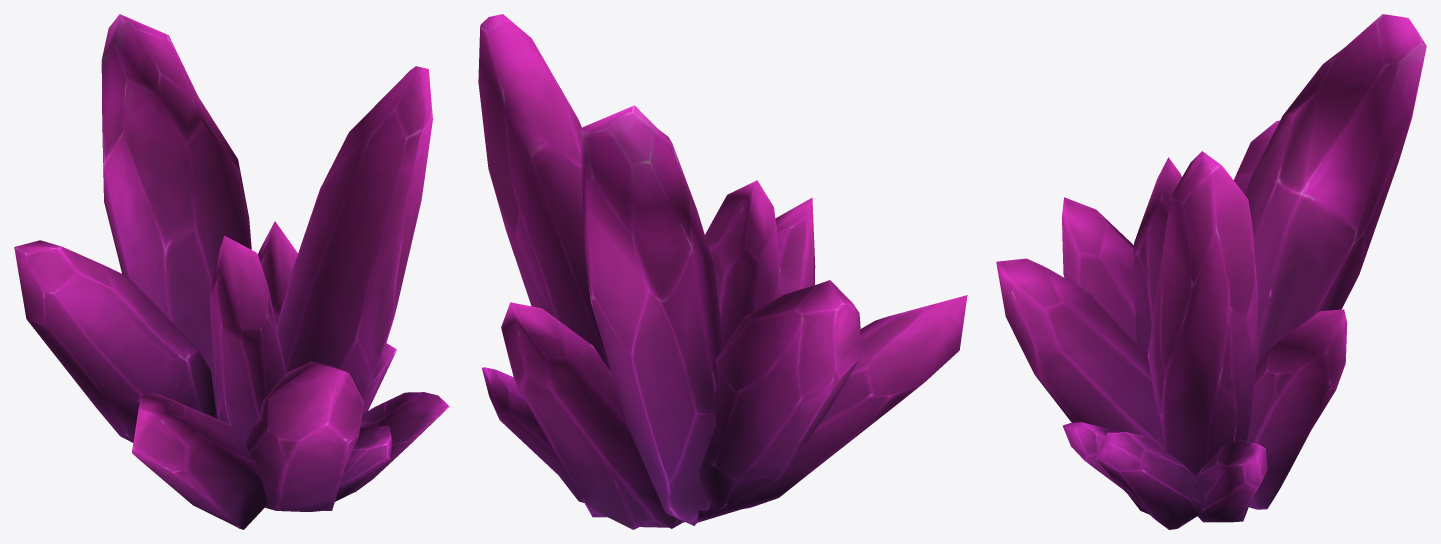
File: VEG0510012.fbx
3 renders of one model, left to right at view 1: azimuth 30°, elevation 25°; view 2: azimuth 150°, elevation 25°; view 3: azimuth 270°, elevation 25°, orthographic. The views are drawn at different scales.
Parts seen in each view (by area): view 1: smVEG0510012; view 2: smVEG0510012; view 3: smVEG0510012.
Part boxes in pixels (x1,y1,x2,y2): smVEG0510012: (14,14,449,529); smVEG0510012: (478,14,967,529); smVEG0510012: (996,14,1426,529).
Size of the model in its own units: 60.61 by 69.2 by 58.95.
1 material, 1 textured.
